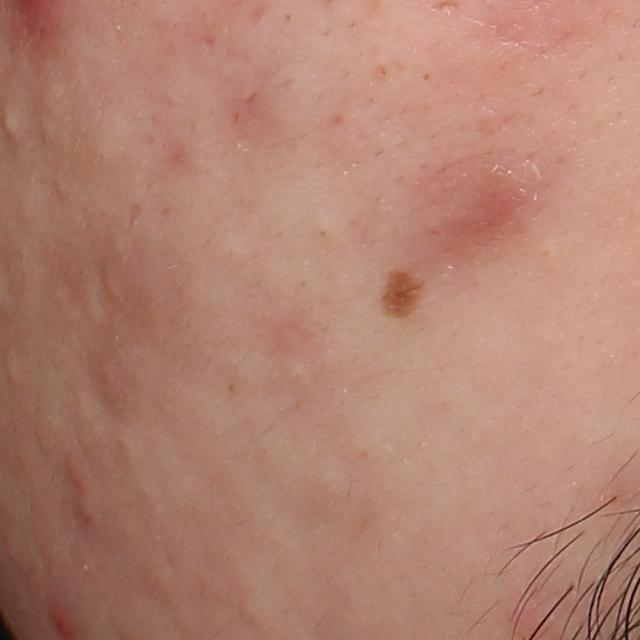comedo: (0, 348, 25, 392)
nevus: (378, 266, 428, 322)
papule: (62, 457, 86, 494)
